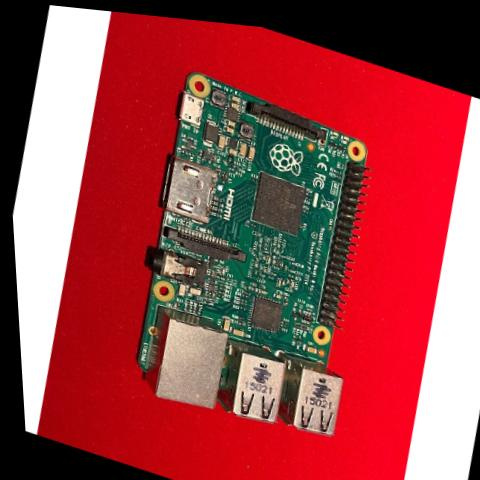Raspberry-Pi-2-Model-B: (95, 43, 411, 460)
